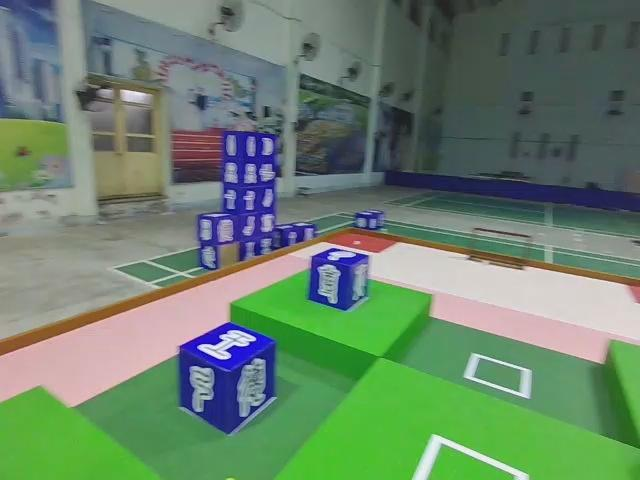R2 Fake Blue: (177, 319, 277, 437), (307, 246, 370, 311)
